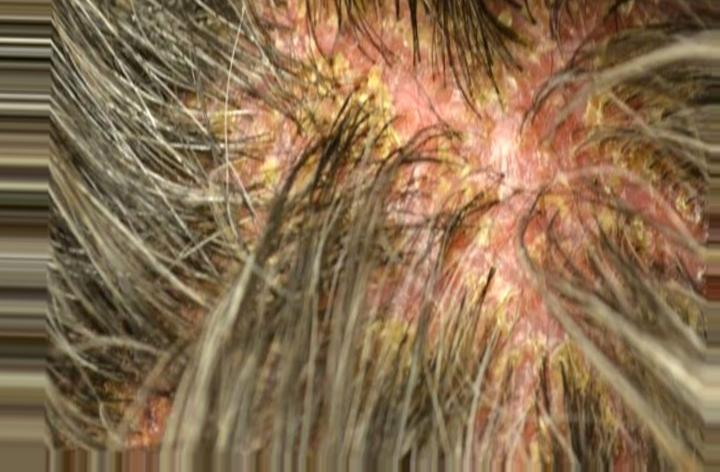Folliculitis: (279, 42, 645, 348)
